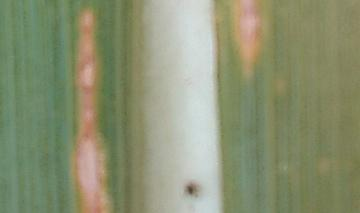tarspot: (187, 182, 200, 198)
